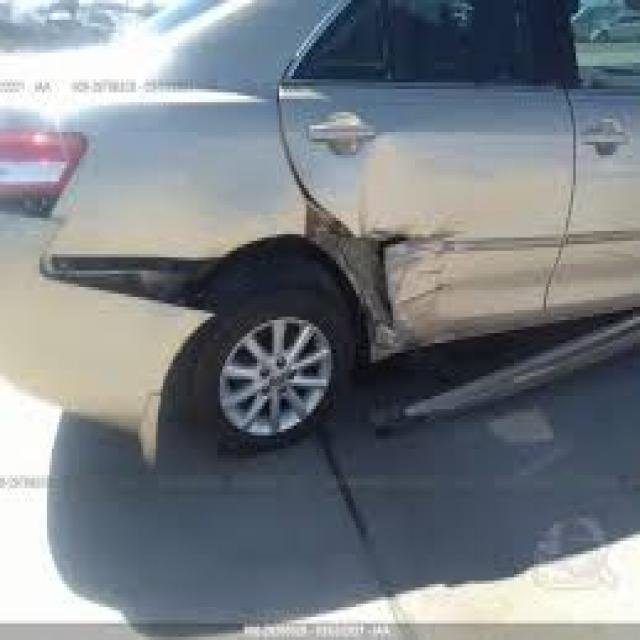damaged-door: (277, 0, 579, 338)
